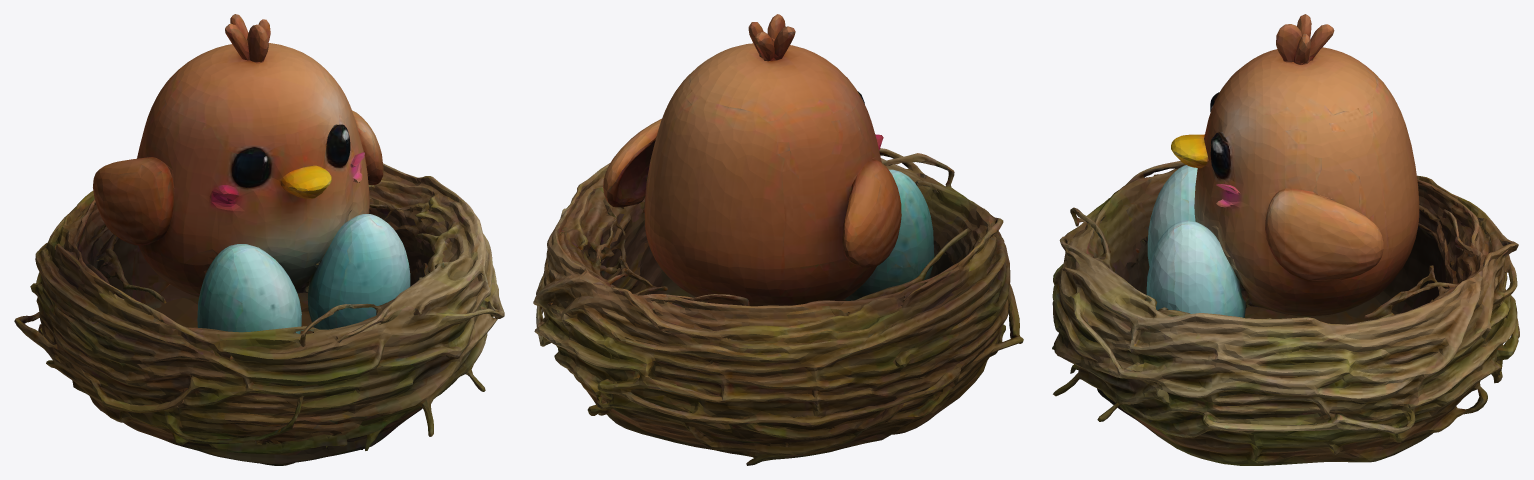
The model's file is nest.glb.
The picture shows the model from 3 angles, left to right: view 1: azimuth 30°, elevation 25°; view 2: azimuth 150°, elevation 25°; view 3: azimuth 270°, elevation 25°; orthographic projection. The views are drawn at different scales.
Parts seen in each view (by area): view 1: geometry_0; view 2: geometry_0; view 3: geometry_0.
Boxes of the visible parts, <box> form: geometry_0: <box>14,14,504,465</box>; geometry_0: <box>533,14,1023,465</box>; geometry_0: <box>1052,14,1519,465</box>.
Size of the model in its own units: 0.993 by 0.8877 by 0.9906.
Materials: 1 (1 with a texture image).
